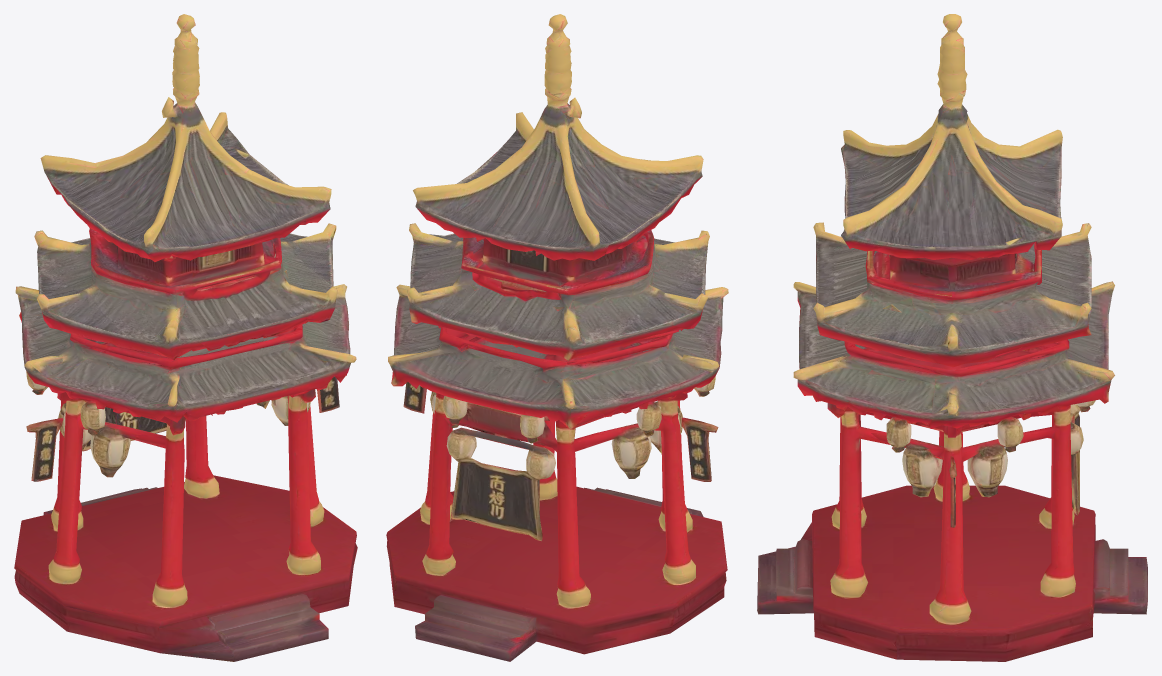
The model's file is kagura-stage.opt.glb.
3 views of the same model, side by side, from view 1: azimuth 30°, elevation 25°; view 2: azimuth 150°, elevation 25°; view 3: azimuth 270°, elevation 25° (orthographic).
Size of the model in its own units: 1.14 by 1.91 by 1.17.
Materials: 1 (1 with a texture image).
